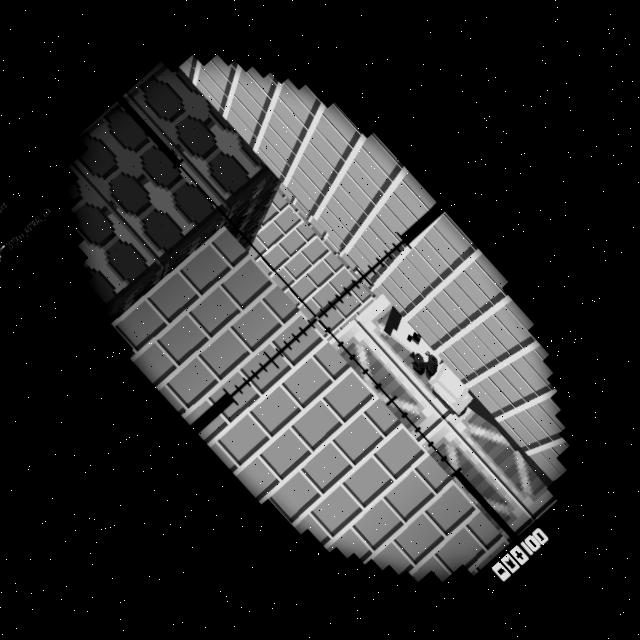Head: (371, 303, 446, 382)
